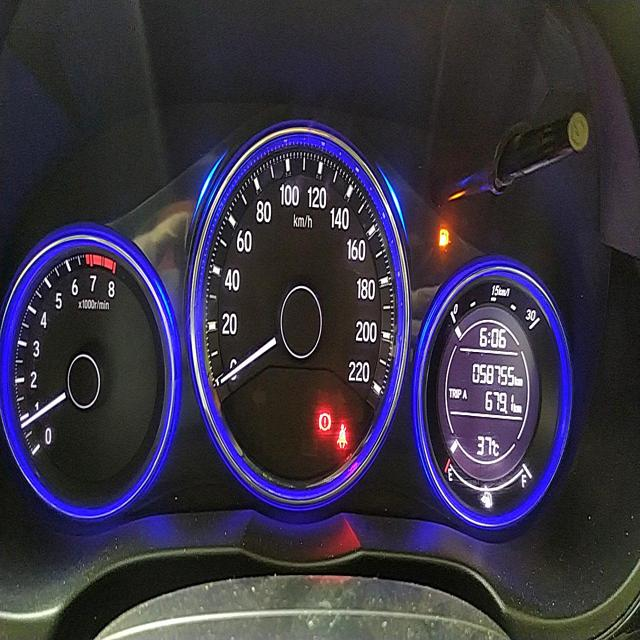odometer: (469, 358, 517, 392)
